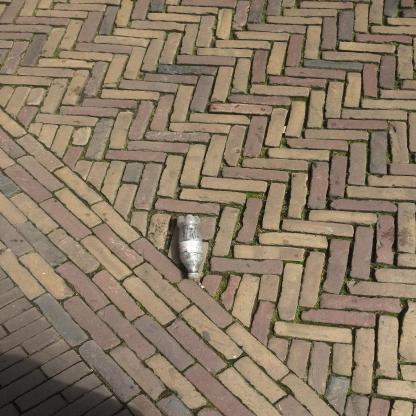plastik: (176, 214, 204, 280)
